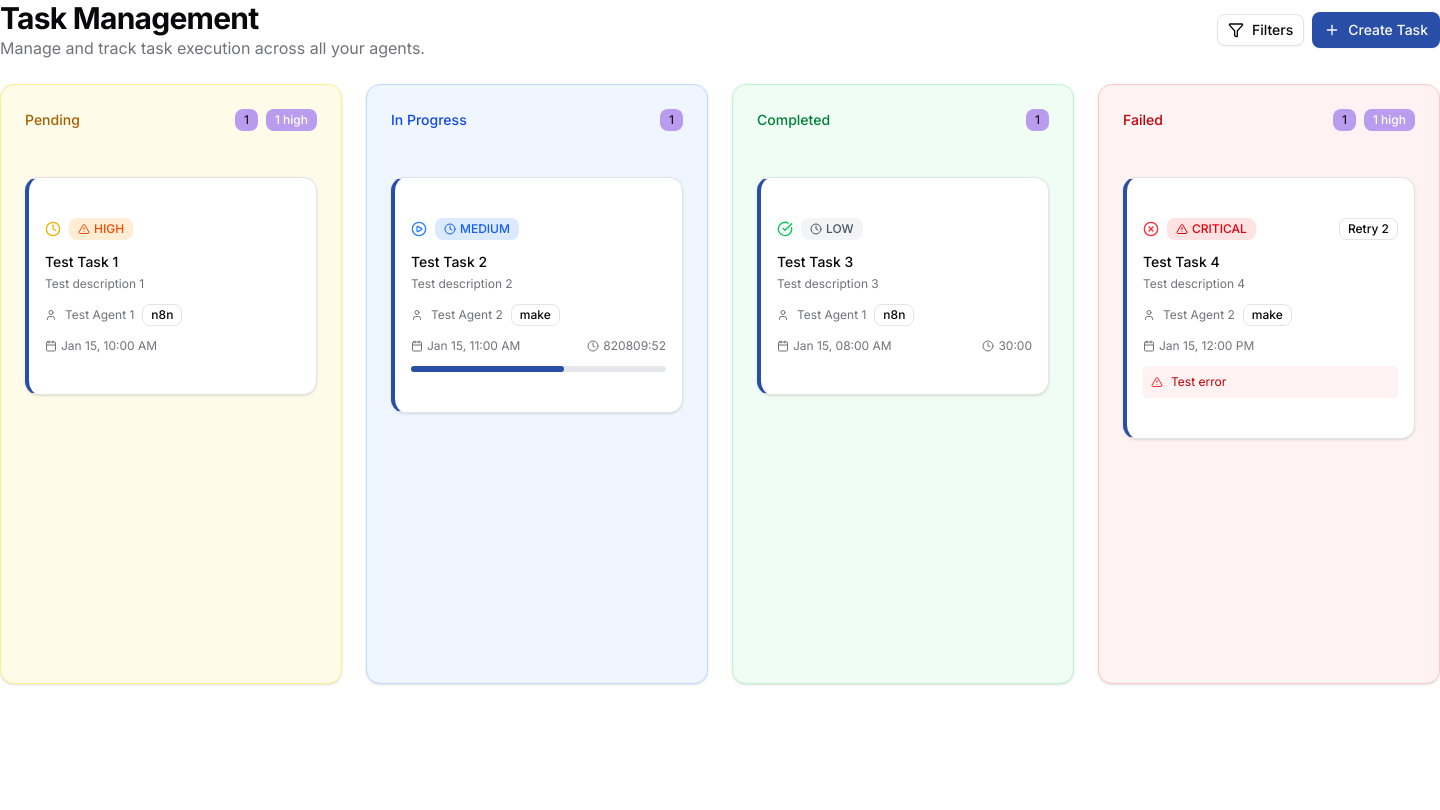
it: TaskBoard › opens filters when filter button is clicked
Click the button "Filters": (1261, 30) [1217, 14, 1304, 46]
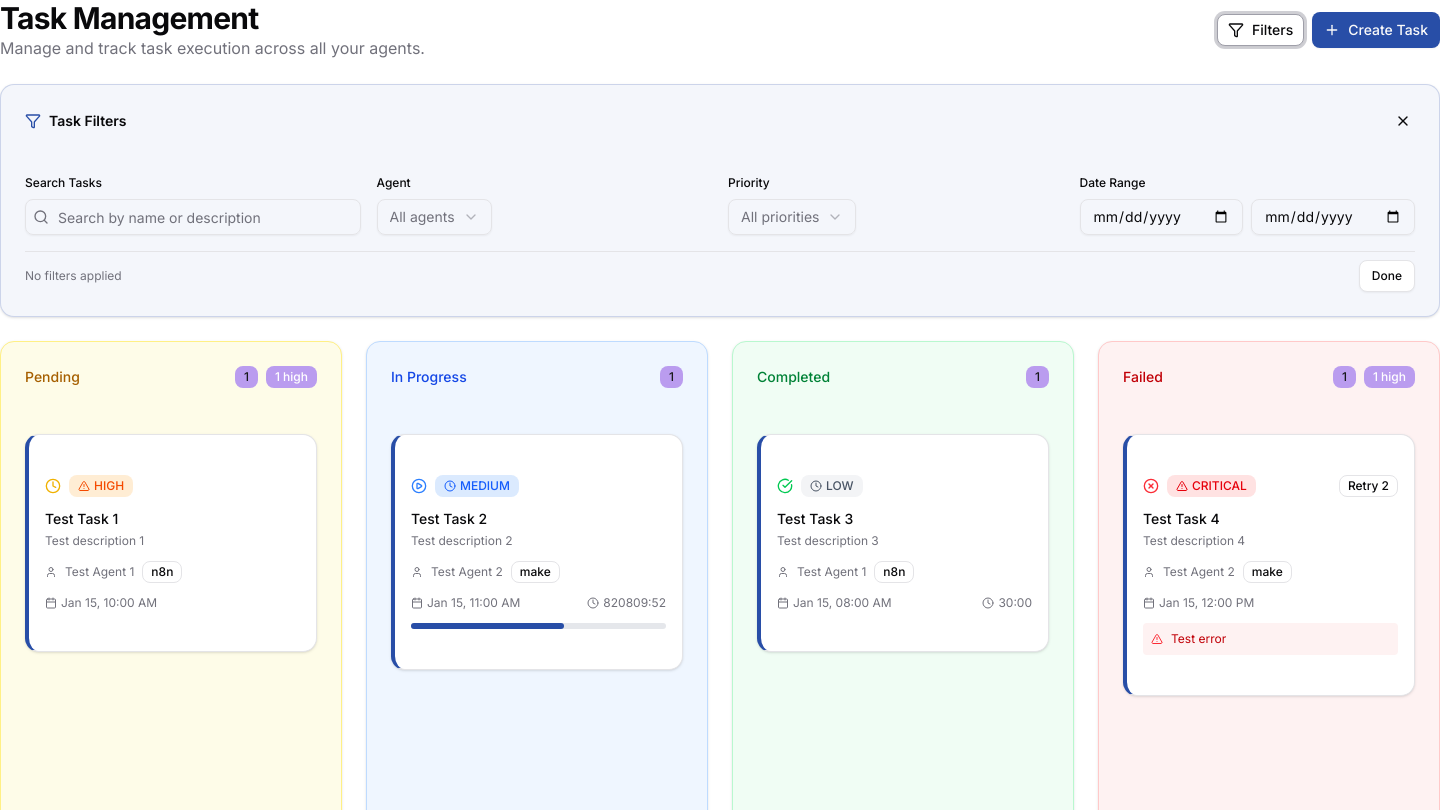
Check: the text "Task Filters" is shown, box [25, 111, 126, 131]
